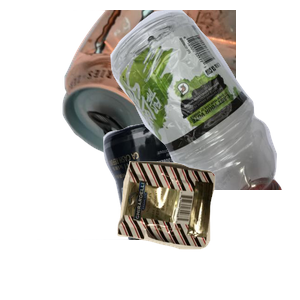glass: (37, 120, 231, 300)
metal: (60, 10, 300, 175)
plastic: (73, 10, 300, 190)
trash: (115, 158, 300, 300)
